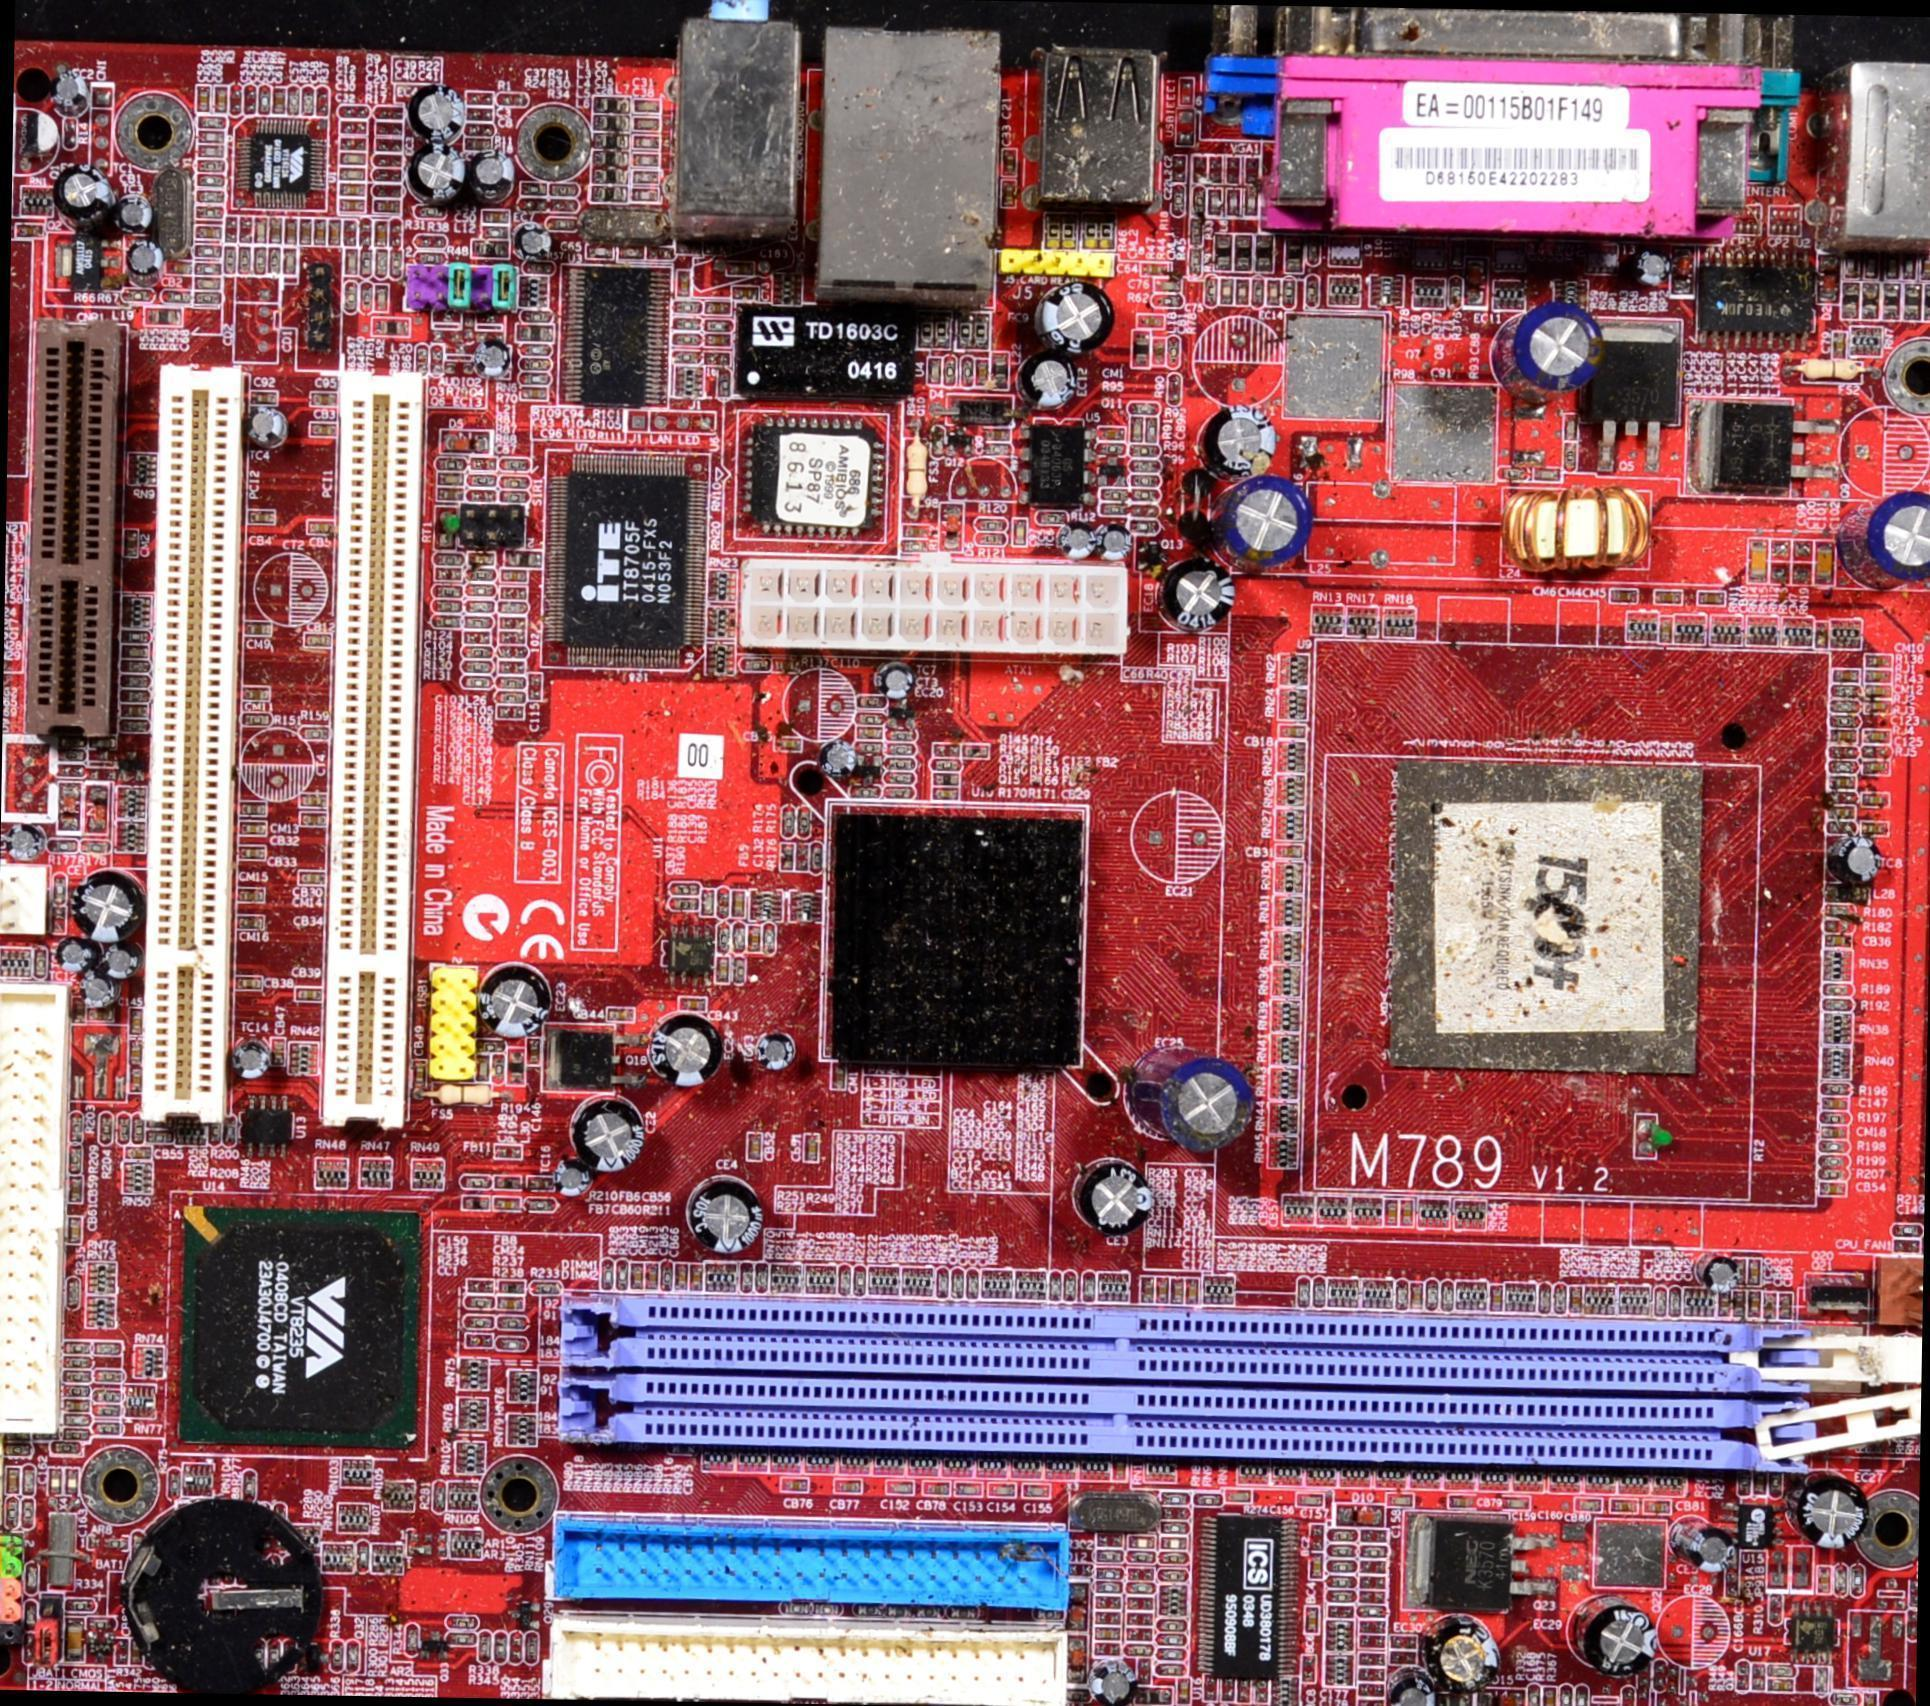Capacitor: (1813, 537, 1837, 589), (1746, 535, 1770, 586), (114, 658, 155, 675), (1021, 1482, 1055, 1501), (920, 1478, 952, 1498), (953, 1477, 984, 1497), (780, 1477, 811, 1497), (885, 1478, 915, 1498), (248, 389, 281, 407), (1864, 666, 1892, 687), (1862, 789, 1891, 809), (1496, 1494, 1532, 1510), (633, 97, 663, 116), (1859, 758, 1892, 775), (1861, 697, 1892, 715), (243, 620, 272, 639), (1827, 772, 1856, 791), (987, 1481, 1017, 1499), (630, 133, 660, 151), (165, 258, 193, 277), (463, 1278, 494, 1295), (1823, 933, 1854, 950), (1893, 1238, 1923, 1255), (1294, 1491, 1324, 1508), (311, 217, 328, 247), (194, 84, 212, 112), (296, 217, 314, 245), (341, 219, 359, 247), (1449, 1493, 1480, 1509), (1572, 1495, 1603, 1511), (212, 83, 229, 112), (1644, 1497, 1673, 1514), (281, 246, 298, 275), (1608, 1497, 1640, 1512), (22, 1466, 37, 1498), (326, 217, 342, 247), (245, 510, 275, 526), (645, 1261, 660, 1292), (629, 188, 660, 203), (342, 246, 357, 277), (1830, 668, 1861, 683), (632, 116, 661, 132), (1864, 653, 1893, 669), (856, 726, 885, 742), (1860, 820, 1889, 836), (466, 90, 493, 107), (65, 1176, 82, 1203), (464, 105, 494, 120), (47, 1467, 62, 1497), (463, 136, 493, 151), (373, 219, 388, 249), (193, 291, 223, 306), (308, 420, 338, 435), (632, 152, 660, 168), (195, 224, 223, 240), (374, 284, 390, 312), (1827, 731, 1859, 745), (238, 800, 266, 816), (67, 1217, 82, 1246), (1169, 1280, 1185, 1307), (1817, 1181, 1847, 1195), (1141, 1276, 1155, 1306), (338, 120, 368, 134), (1386, 1493, 1416, 1507), (338, 138, 368, 152), (631, 171, 661, 185), (304, 633, 332, 648), (237, 216, 253, 242), (281, 217, 297, 243), (1861, 744, 1890, 758), (1821, 1095, 1848, 1110), (497, 1296, 524, 1311), (118, 706, 149, 719), (377, 136, 402, 152), (690, 1264, 704, 1292), (1219, 1672, 1233, 1700), (194, 278, 222, 292), (1819, 1125, 1849, 1138), (374, 122, 404, 135), (1014, 517, 1027, 547), (1863, 685, 1893, 698), (1296, 1493, 1323, 1507), (340, 152, 367, 166), (339, 166, 366, 180), (1204, 1673, 1217, 1702), (336, 199, 365, 212), (1185, 1281, 1198, 1309), (64, 1401, 92, 1414), (836, 1480, 862, 1494), (1128, 1536, 1156, 1549), (225, 214, 239, 240), (269, 217, 283, 243), (307, 521, 333, 535), (1862, 730, 1890, 743), (1157, 1276, 1169, 1306), (4, 1468, 21, 1489), (311, 393, 338, 406), (254, 218, 267, 244), (485, 211, 509, 225), (273, 86, 285, 113), (675, 1263, 687, 1290), (66, 1470, 78, 1496), (796, 843, 808, 869), (631, 1263, 642, 1291), (338, 184, 366, 195), (1095, 1629, 1120, 1641), (1176, 1680, 1190, 1701), (1163, 1535, 1186, 1547), (933, 789, 958, 799), (1543, 1685, 1555, 1705), (1227, 1491, 1252, 1499)
Connector: (555, 1280, 1813, 1487), (1197, 4, 1814, 239), (150, 355, 240, 1123), (330, 363, 417, 1125), (543, 1498, 1078, 1615), (808, 11, 1012, 293), (530, 1622, 1088, 1703), (27, 305, 123, 745), (0, 976, 76, 1436), (671, 0, 810, 238), (1031, 34, 1161, 227), (1810, 49, 1929, 247)
IC: (1307, 704, 1757, 1151), (164, 1190, 430, 1456), (552, 451, 695, 661), (737, 413, 886, 550), (1196, 1507, 1304, 1677), (739, 304, 910, 401), (1397, 1510, 1558, 1613), (557, 254, 661, 413), (1698, 247, 1816, 354), (231, 114, 328, 216), (1017, 417, 1099, 505), (1785, 1602, 1838, 1665), (246, 1091, 293, 1161)
Resistor: (903, 433, 933, 508), (62, 1107, 86, 1146), (494, 1331, 530, 1352), (117, 625, 151, 647), (64, 1138, 84, 1175), (1887, 1220, 1923, 1240), (62, 1276, 82, 1311), (527, 1279, 564, 1297), (443, 1612, 478, 1631), (657, 1259, 675, 1295), (1820, 995, 1856, 1013), (283, 82, 303, 114), (599, 1256, 617, 1291), (335, 100, 372, 117), (460, 122, 499, 138), (963, 1268, 980, 1304), (1815, 1140, 1855, 1155), (1815, 1153, 1852, 1169), (524, 1629, 540, 1666), (494, 1315, 530, 1331), (1821, 902, 1857, 918), (117, 718, 150, 735), (492, 1630, 508, 1665), (117, 689, 152, 705), (241, 713, 276, 729), (1823, 819, 1860, 834), (220, 1116, 237, 1148), (947, 1267, 964, 1299), (1849, 1563, 1866, 1595), (358, 280, 375, 312), (159, 288, 191, 305), (614, 1257, 630, 1290), (60, 1341, 93, 1357), (444, 1630, 477, 1646), (505, 1630, 522, 1661), (357, 248, 374, 279), (461, 1315, 496, 1330), (117, 676, 152, 691), (1818, 917, 1855, 931), (1156, 1568, 1188, 1584), (344, 1639, 360, 1671), (195, 158, 227, 174), (796, 806, 812, 838), (1819, 1080, 1853, 1095), (116, 1115, 133, 1145), (737, 1263, 754, 1293), (403, 1624, 418, 1658), (477, 1630, 492, 1664), (1827, 744, 1857, 761), (1821, 982, 1855, 997), (1825, 1692, 1864, 1705), (129, 1116, 145, 1147), (388, 219, 404, 250), (373, 248, 389, 279), (977, 531, 1008, 547), (1734, 1659, 1749, 1692), (412, 204, 445, 219), (122, 287, 155, 302), (99, 1112, 113, 1147), (6, 1495, 20, 1530), (358, 216, 372, 251), (494, 90, 531, 103), (300, 85, 315, 117), (753, 1262, 769, 1292), (1047, 1270, 1062, 1302), (883, 756, 915, 771), (836, 1264, 851, 1295), (851, 1266, 866, 1297), (857, 694, 888, 709), (811, 842, 826, 873), (334, 1640, 348, 1673), (371, 154, 404, 168), (1827, 714, 1860, 728), (300, 727, 333, 741), (781, 805, 795, 838), (59, 1370, 94, 1383), (411, 234, 446, 247), (196, 115, 226, 130), (196, 144, 226, 159), (1817, 1167, 1849, 1181), (257, 83, 271, 115), (374, 104, 402, 120), (1767, 1676, 1795, 1692), (343, 281, 357, 313), (975, 517, 1007, 531), (847, 786, 881, 799), (195, 189, 224, 204), (196, 205, 225, 220), (932, 759, 961, 774), (317, 84, 331, 115), (465, 1294, 496, 1308), (95, 1342, 122, 1358), (266, 244, 282, 271), (209, 1115, 223, 1145), (242, 85, 257, 113), (194, 173, 224, 187), (193, 244, 221, 259), (224, 243, 238, 273), (1830, 684, 1860, 698), (1831, 700, 1861, 714), (884, 743, 914, 757), (234, 243, 250, 269), (47, 839, 79, 852), (230, 82, 242, 116), (197, 131, 226, 145), (374, 171, 403, 185), (193, 263, 222, 277), (1160, 1522, 1191, 1535), (1827, 761, 1858, 774), (51, 875, 67, 900), (254, 246, 268, 274), (1161, 1492, 1191, 1505), (118, 644, 148, 657), (932, 744, 962, 757), (1818, 1110, 1850, 1122), (146, 1131, 173, 1145), (1751, 1663, 1765, 1690), (887, 770, 914, 784), (83, 841, 110, 855), (433, 1481, 446, 1510), (390, 249, 403, 278), (66, 1427, 91, 1442), (1084, 1270, 1095, 1304), (1159, 1552, 1190, 1564), (886, 729, 917, 741), (1064, 1271, 1077, 1299), (961, 745, 989, 758), (1128, 1644, 1158, 1656), (856, 713, 886, 725), (1130, 1550, 1157, 1563), (1360, 1543, 1385, 1557), (52, 1445, 83, 1456), (1358, 1606, 1386, 1618), (1157, 1633, 1185, 1645), (854, 742, 882, 754), (1154, 1621, 1191, 1630), (1194, 1494, 1224, 1505), (937, 1269, 949, 1296), (1157, 1648, 1184, 1660), (1768, 1663, 1795, 1675), (65, 1384, 94, 1395), (1096, 1551, 1125, 1562), (1094, 1567, 1123, 1578), (1158, 1663, 1184, 1675), (885, 786, 913, 797), (62, 1359, 92, 1369), (94, 1408, 124, 1418), (97, 1390, 120, 1403), (1331, 1545, 1355, 1557), (1859, 1690, 1878, 1705), (1574, 1686, 1589, 1705), (1092, 1582, 1120, 1592), (1528, 1684, 1541, 1705), (64, 1417, 93, 1426), (1328, 1562, 1354, 1572), (1560, 1685, 1573, 1705), (933, 774, 959, 784), (1328, 1531, 1356, 1540), (94, 1373, 125, 1381), (90, 1423, 121, 1431), (1328, 1577, 1353, 1586), (1127, 1583, 1153, 1591), (1332, 1593, 1355, 1602), (26, 1503, 33, 1527)
Transistor: (506, 1598, 545, 1629), (421, 1628, 447, 1666)
